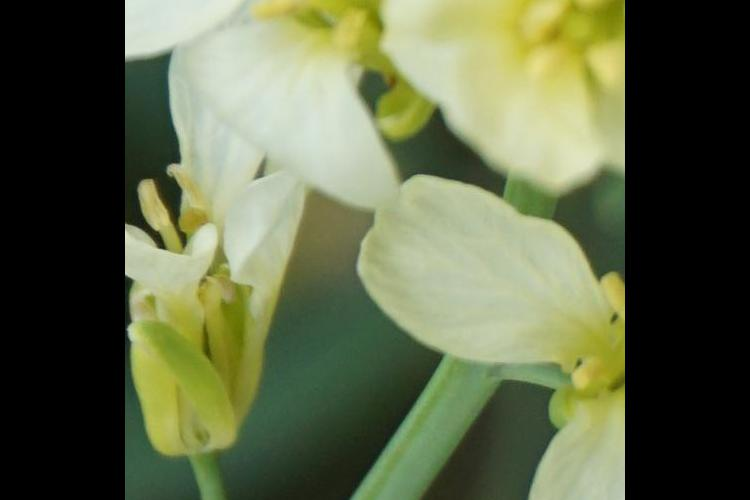white: (374, 190, 626, 500), (134, 52, 296, 439), (387, 1, 626, 176)
